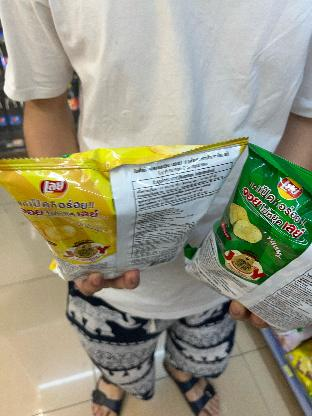Plastic Packaging: (0, 130, 246, 280), (176, 142, 312, 338)
